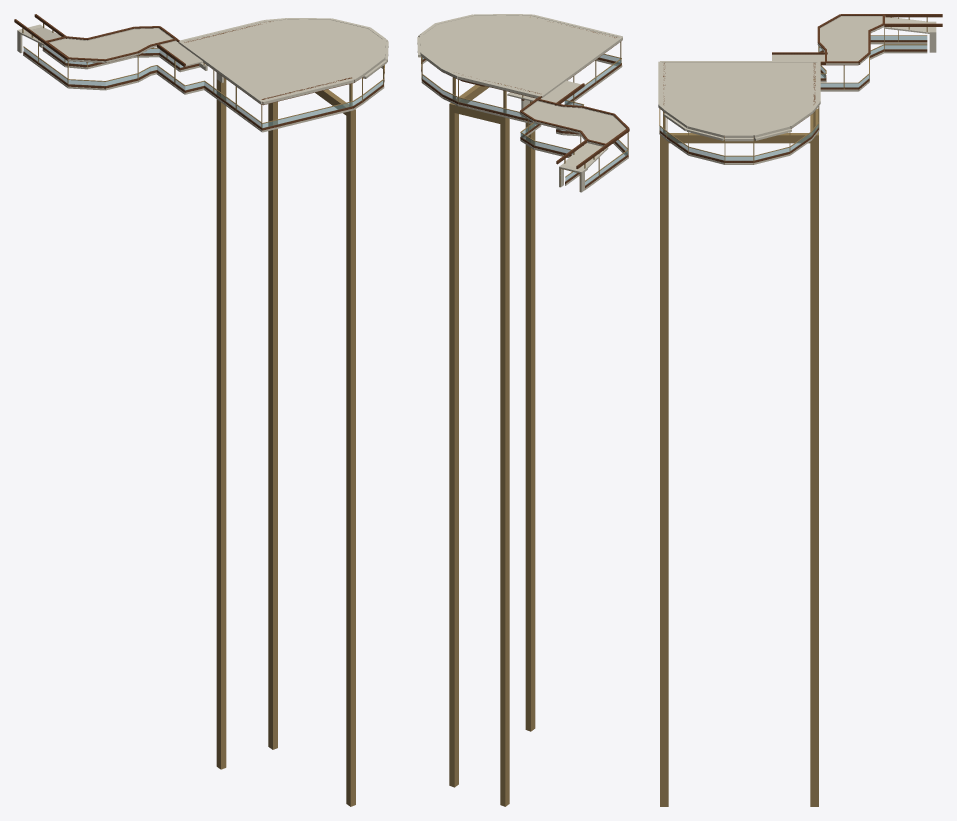
The model's file is AST-RES-006.glb.
3 views of the same model, side by side, from view 1: azimuth 30°, elevation 25°; view 2: azimuth 150°, elevation 25°; view 3: azimuth 270°, elevation 25° (orthographic). The views are drawn at different scales.
Parts seen in each view (by area): view 1: CR_Batch_royalty_ivory_enamel, CR_Batch_D17_RoyaltyPier_WestFore_champagne_metal, CR_Batch_D17_RoyaltyPier_Aft_champagne_metal, CR_Batch_D17_RoyaltyPier_Fore_champagne_metal, CR_Batch_court_ivory_enamel, CR_Batch_lane_private_ivory_enamel, CR_Batch_court_warm_walnut, CR_Batch_royalty_warm_walnut, CR_Batch_lane_private_warm_walnut, CR_Batch_approach_warm_walnut, CR_Batch_approach_ivory_enamel; view 2: CR_Batch_royalty_ivory_enamel, CR_Batch_D17_RoyaltyPier_WestFore_champagne_metal, CR_Batch_D17_RoyaltyPier_Fore_champagne_metal, CR_Batch_D17_RoyaltyPier_Aft_champagne_metal, CR_Batch_court_ivory_enamel, CR_Batch_lane_private_ivory_enamel, CR_Batch_approach_ivory_enamel, CR_Batch_court_warm_walnut, CR_Batch_approach_warm_walnut, CR_Batch_royalty_warm_walnut, CR_Batch_royalty_HouseSmokedGlass, CR_Batch_lane_private_warm_walnut (+2 smaller); view 3: CR_Batch_royalty_ivory_enamel, CR_Batch_D17_RoyaltyPier_Fore_champagne_metal, CR_Batch_D17_RoyaltyPier_Aft_champagne_metal, CR_Batch_court_ivory_enamel, CR_Batch_D17_RoyaltyTransfer_champagne_metal, CR_Batch_approach_ivory_enamel, CR_Batch_approach_warm_walnut, CR_Batch_royalty_HouseSmokedGlass, CR_Batch_lane_private_ivory_enamel, CR_Batch_court_warm_walnut, CR_Batch_royalty_champagne_metal, CR_Batch_royalty_warm_walnut.
Boxes of the visible parts, x1,y1,x2,y2 form: CR_Batch_royalty_ivory_enamel: [179, 18, 388, 132]; CR_Batch_D17_RoyaltyPier_WestFore_champagne_metal: [216, 72, 226, 759]; CR_Batch_D17_RoyaltyPier_Aft_champagne_metal: [346, 116, 355, 803]; CR_Batch_D17_RoyaltyPier_Fore_champagne_metal: [268, 101, 277, 746]; CR_Batch_court_ivory_enamel: [50, 28, 180, 90]; CR_Batch_lane_private_ivory_enamel: [105, 41, 262, 132]; CR_Batch_court_warm_walnut: [45, 26, 180, 88]; CR_Batch_royalty_warm_walnut: [180, 21, 384, 130]; CR_Batch_lane_private_warm_walnut: [105, 38, 262, 130]; CR_Batch_approach_warm_walnut: [14, 14, 86, 86]; CR_Batch_approach_ivory_enamel: [17, 24, 68, 87]; CR_Batch_royalty_ivory_enamel: [417, 14, 622, 124]; CR_Batch_D17_RoyaltyPier_WestFore_champagne_metal: [500, 122, 509, 796]; CR_Batch_D17_RoyaltyPier_Fore_champagne_metal: [449, 112, 458, 784]; CR_Batch_D17_RoyaltyPier_Aft_champagne_metal: [525, 101, 535, 728]; CR_Batch_court_ivory_enamel: [519, 100, 628, 157]; CR_Batch_lane_private_ivory_enamel: [507, 36, 622, 143]; CR_Batch_approach_ivory_enamel: [559, 141, 628, 192]; CR_Batch_court_warm_walnut: [520, 98, 628, 156]; CR_Batch_approach_warm_walnut: [556, 128, 629, 188]; CR_Batch_royalty_warm_walnut: [421, 18, 619, 122]; CR_Batch_royalty_HouseSmokedGlass: [422, 54, 619, 118]; CR_Batch_lane_private_warm_walnut: [521, 41, 621, 131]; CR_Batch_royalty_ivory_enamel: [658, 61, 820, 164]; CR_Batch_D17_RoyaltyPier_Fore_champagne_metal: [810, 143, 818, 804]; CR_Batch_D17_RoyaltyPier_Aft_champagne_metal: [660, 143, 668, 804]; CR_Batch_court_ivory_enamel: [817, 16, 884, 91]; CR_Batch_D17_RoyaltyTransfer_champagne_metal: [660, 133, 818, 143]; CR_Batch_approach_ivory_enamel: [870, 16, 936, 53]; CR_Batch_approach_warm_walnut: [840, 14, 942, 57]; CR_Batch_royalty_HouseSmokedGlass: [659, 124, 818, 160]; CR_Batch_lane_private_ivory_enamel: [660, 28, 827, 82]; CR_Batch_court_warm_walnut: [818, 14, 883, 89]; CR_Batch_royalty_champagne_metal: [659, 79, 819, 164]; CR_Batch_royalty_warm_walnut: [659, 63, 818, 162].
Size of the model in its own units: 40.35 by 108 by 39.38.
5 materials, 3 textured.
